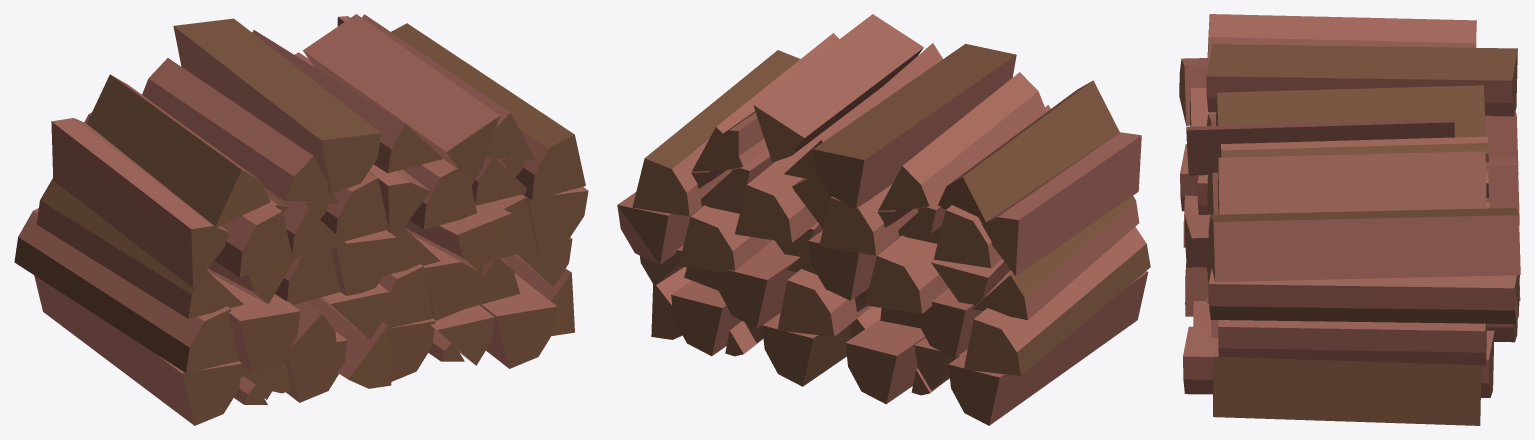
Rendered from Logs2Real.fbx.
The picture shows the model from 3 angles, left to right: view 1: azimuth 30°, elevation 25°; view 2: azimuth 150°, elevation 25°; view 3: azimuth 270°, elevation 25°; orthographic projection. The views are drawn at different scales.
Parts seen in each view (by area): view 1: pasted__Firewood_pile_03; view 2: pasted__Firewood_pile_03; view 3: pasted__Firewood_pile_03.
Part boxes in pixels (x1=…): pasted__Firewood_pile_03: x1=14, y1=14, x2=588, y2=425; pasted__Firewood_pile_03: x1=617, y1=14, x2=1150, y2=425; pasted__Firewood_pile_03: x1=1179, y1=14, x2=1520, y2=425.
Size of the model in its own units: 153 by 90 by 107.
